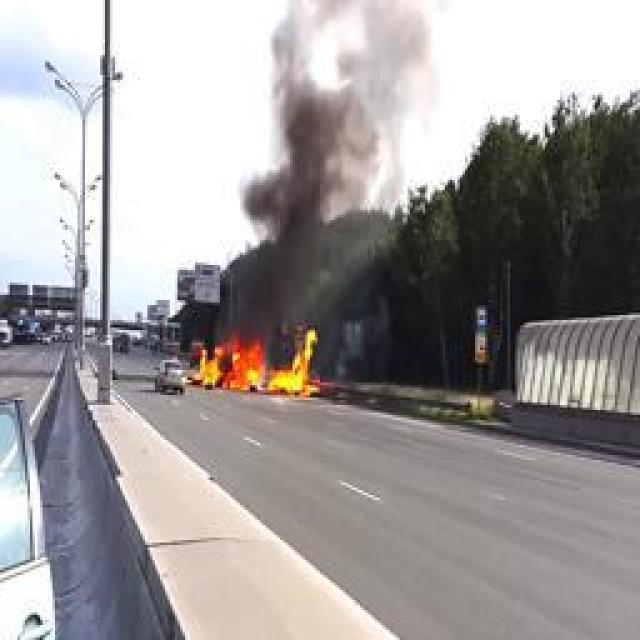Fire: (192, 326, 322, 394)
